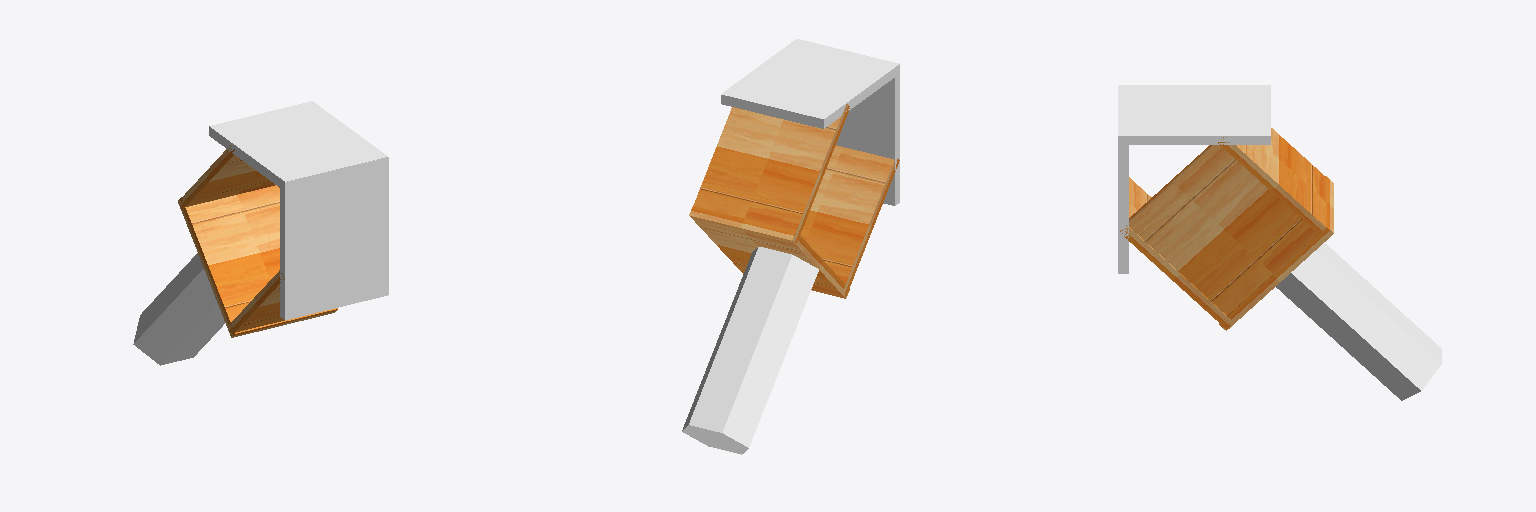
The picture shows the model from 3 angles: view 1: azimuth 30°, elevation 25°; view 2: azimuth 150°, elevation 25°; view 3: azimuth 270°, elevation 25°; orthographic projection.
Parts seen in each view (by area): view 1: BirdHouse; view 2: BirdHouse; view 3: BirdHouse.
Part boxes in pixels (bbox=[...]): BirdHouse: bbox=[133, 101, 388, 365]; BirdHouse: bbox=[682, 39, 899, 454]; BirdHouse: bbox=[1118, 85, 1441, 400].
Bounding box in the file's own units: 0.3717 × 0.9969 × 1.
3 materials, 1 textured.